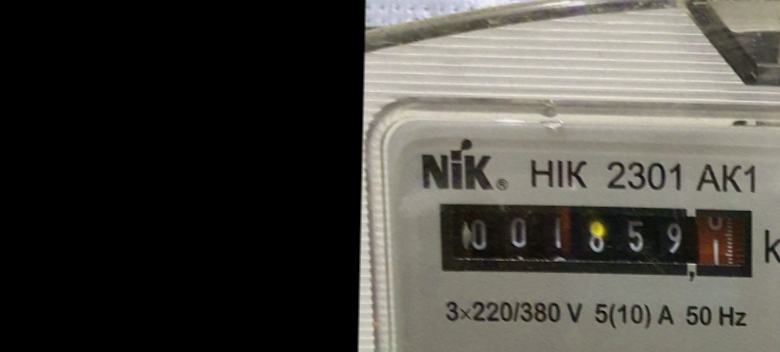0: (467, 217, 487, 253), (507, 216, 527, 249)
1: (708, 236, 721, 267), (551, 215, 562, 251)
5: (624, 218, 645, 254)
8: (585, 219, 605, 255)
9: (663, 221, 682, 256)
screen: (426, 192, 763, 289)
